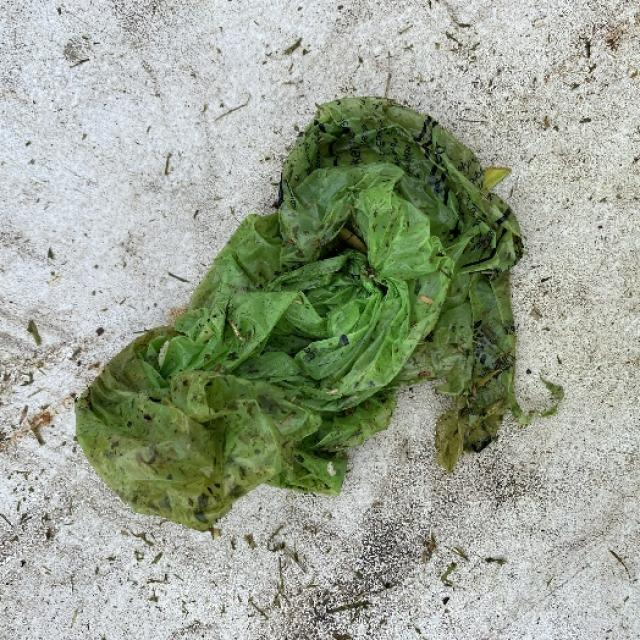organik: (86, 91, 535, 520)
